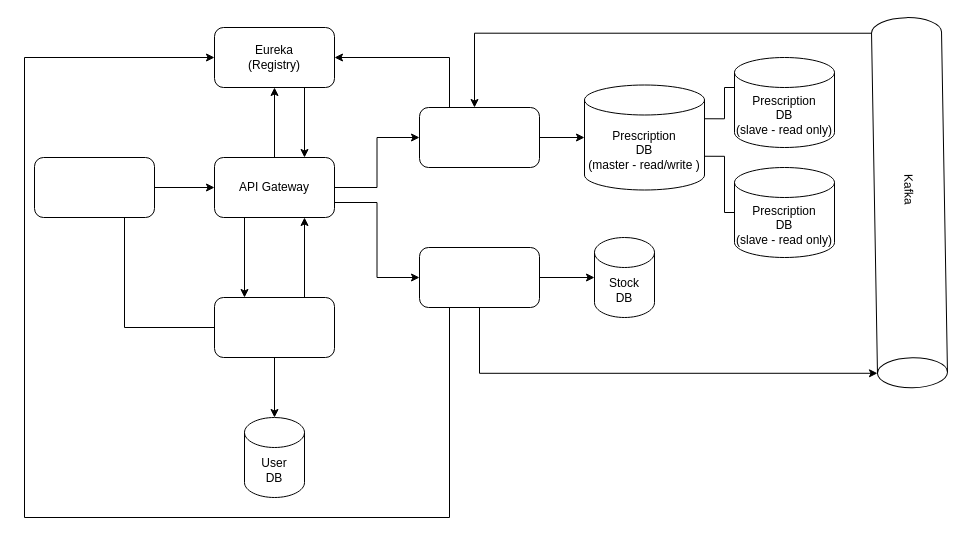
This 966x544 diagram has some shape labels left out. The shapes that lost their labels are listed below. From the top down, each one's centre as x and y in pixels, then its label:
At [479,137]: "Prescription Service".
At [94,187]: "Client".
At [479,277]: "Stock Service".
At [274,327]: "Auth Server (Keycloak)".
